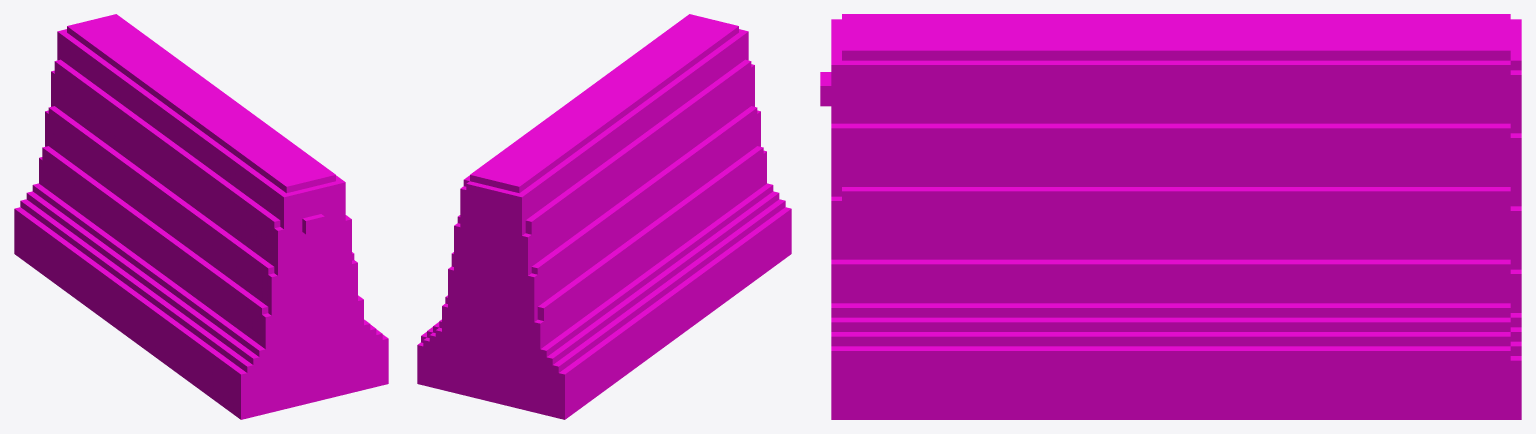
File: concrete_block_low_poly.glb
3 views of the same model, side by side, from view 1: azimuth 30°, elevation 25°; view 2: azimuth 150°, elevation 25°; view 3: azimuth 270°, elevation 25° (orthographic). The views are drawn at different scales.
Parts seen in each view (by area): view 1: col_floor_01, col_roof_09, col_block_09, col_block_07, col_block_05, col_roof_04, col_block_08, col_block_01, col_block_02, col_block_03, col_block_04, col_roof_07 (+8 smaller); view 2: col_floor_01, col_roof_09, col_block_09, col_block_07, col_roof_04, col_block_05, col_block_08, col_block_01, col_block_02, col_block_03, col_block_04, col_roof_07 (+7 smaller); view 3: col_floor_01, col_block_09, col_block_07, col_roof_04, col_roof_09, col_block_05, col_wall_05, col_roof_02, col_roof_08, col_wall_01, col_wall_02, col_wall_03 (+4 smaller).
Boxes of the visible parts, left/top/right/bottom form: col_floor_01: left=14, top=215, right=388, bottom=419; col_roof_09: left=67, top=14, right=335, bottom=193; col_block_09: left=51, top=78, right=351, bottom=275; col_block_07: left=45, top=124, right=357, bottom=321; col_block_05: left=39, top=164, right=363, bottom=349; col_roof_04: left=57, top=38, right=345, bottom=235; col_block_08: left=45, top=110, right=351, bottom=290; col_block_01: left=14, top=207, right=382, bottom=381; col_block_02: left=20, top=199, right=376, bottom=372; col_block_03: left=26, top=191, right=370, bottom=364; col_block_04: left=32, top=183, right=363, bottom=357; col_roof_07: left=57, top=29, right=339, bottom=203; col_floor_01: left=417, top=215, right=791, bottom=419; col_roof_09: left=470, top=14, right=738, bottom=193; col_block_09: left=454, top=78, right=754, bottom=275; col_block_07: left=448, top=124, right=760, bottom=321; col_roof_04: left=460, top=38, right=748, bottom=235; col_block_05: left=442, top=164, right=766, bottom=349; col_block_08: left=454, top=110, right=760, bottom=289; col_block_01: left=423, top=207, right=791, bottom=381; col_block_02: left=429, top=199, right=785, bottom=372; col_block_03: left=435, top=191, right=779, bottom=365; col_block_04: left=442, top=183, right=773, bottom=357; col_roof_07: left=466, top=29, right=748, bottom=203; col_floor_01: left=831, top=356, right=1521, bottom=419; col_block_09: left=831, top=133, right=1521, bottom=187; col_block_07: left=831, top=206, right=1521, bottom=260; col_roof_04: left=831, top=70, right=1521, bottom=124; col_roof_09: left=842, top=14, right=1510, bottom=60; col_block_05: left=831, top=269, right=1521, bottom=303; col_wall_05: left=831, top=259, right=1510, bottom=274; col_roof_02: left=831, top=123, right=1510, bottom=138; col_roof_08: left=831, top=60, right=1510, bottom=75; col_wall_01: left=831, top=346, right=1510, bottom=361; col_wall_02: left=831, top=332, right=1510, bottom=346; col_wall_03: left=831, top=317, right=1510, bottom=331.
Size of the model in its own units: 0.7525 by 1.06 by 2.03.
